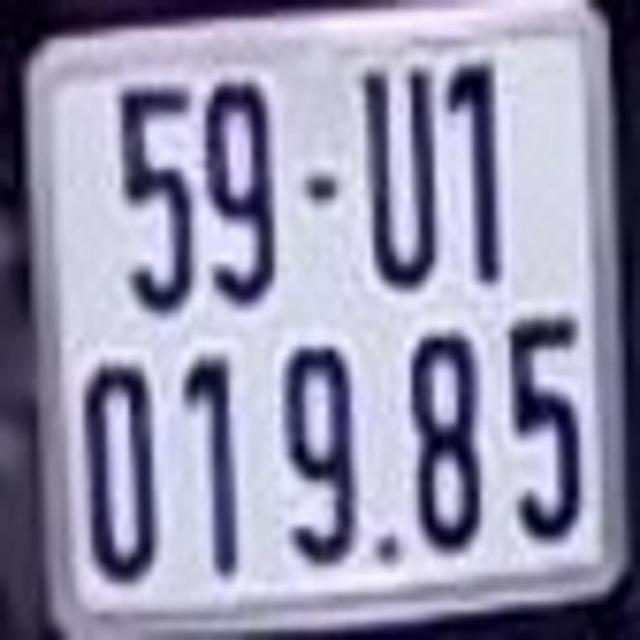0: (82, 358, 160, 582)
1: (178, 354, 246, 576), (450, 63, 507, 286)
5: (114, 81, 200, 314), (504, 316, 592, 540)
8: (405, 331, 487, 551)
9: (202, 80, 282, 308), (280, 343, 360, 564)
U: (354, 66, 448, 296)
